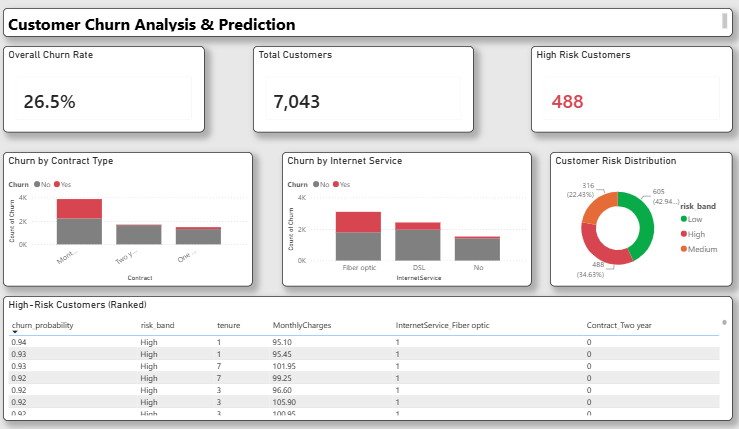

The page's visual inventory and layout, read from the dashboard file:
{"tool":"powerbi","page":{"name":"Page 1","canvas":[1280,720],"ordinal":0},"visuals":[{"type":"cardVisual","title":"Total Customers","fields":{"Data":["CountNonNull(WA_Fn-UseC_-Telco-Customer-Churn.customerID)"]},"box":[448,80,368,144],"z":0},{"type":"cardVisual","title":"Overall Churn Rate","fields":{"Data":["WA_Fn-UseC_-Telco-Customer-Churn.Churn Rate"]},"box":[32,80,336,144],"z":1000},{"type":"cardVisual","title":"High Risk Customers","fields":{"Data":["CountNonNull(churn_predictions.risk_band)"]},"box":[912,80,336,144],"z":2000},{"type":"donutChart","title":"Customer Risk Distribution","fields":{"Category":["churn_predictions.risk_band"],"Y":["CountNonNull(churn_predictions.risk_band)"]},"box":[944,256,304,224],"z":3000},{"type":"columnChart","title":"Churn by Contract Type","fields":{"Category":["WA_Fn-UseC_-Telco-Customer-Churn.Contract"],"Y":["CountNonNull(WA_Fn-UseC_-Telco-Customer-Churn.Churn)"],"Series":["WA_Fn-UseC_-Telco-Customer-Churn.Churn"]},"box":[32,256,416,224],"z":4000},{"type":"columnChart","title":"Churn by Internet Service","fields":{"Category":["WA_Fn-UseC_-Telco-Customer-Churn.InternetService"],"Y":["CountNonNull(WA_Fn-UseC_-Telco-Customer-Churn.Churn)"],"Series":["WA_Fn-UseC_-Telco-Customer-Churn.Churn"]},"box":[496,256,416,224],"z":5000},{"type":"tableEx","title":"High-Risk Customers (Ranked)","fields":{"Values":["churn_predictions.churn_probability","churn_predictions.risk_band","churn_predictions.tenure","churn_predictions.MonthlyCharges","churn_predictions.InternetService_Fiber optic","churn_predictions.Contract_Two year"]},"box":[32,496,1216,208],"z":6000},{"type":"textbox","box":[32,16,1216,48],"z":7000}]}

Visuals, with their boxes in screenshot pixels (x1, y1, x2, y2):
"Total Customers" cardVisual: detection(257, 45, 474, 130)
"Overall Churn Rate" cardVisual: detection(11, 45, 210, 130)
"High Risk Customers" cardVisual: detection(531, 45, 729, 130)
"Customer Risk Distribution" donutChart: detection(550, 149, 729, 281)
"Churn by Contract Type" columnChart: detection(11, 149, 257, 281)
"Churn by Internet Service" columnChart: detection(285, 149, 531, 281)
"High-Risk Customers (Ranked)" tableEx: detection(11, 291, 729, 414)
textbox: detection(11, 8, 729, 36)
